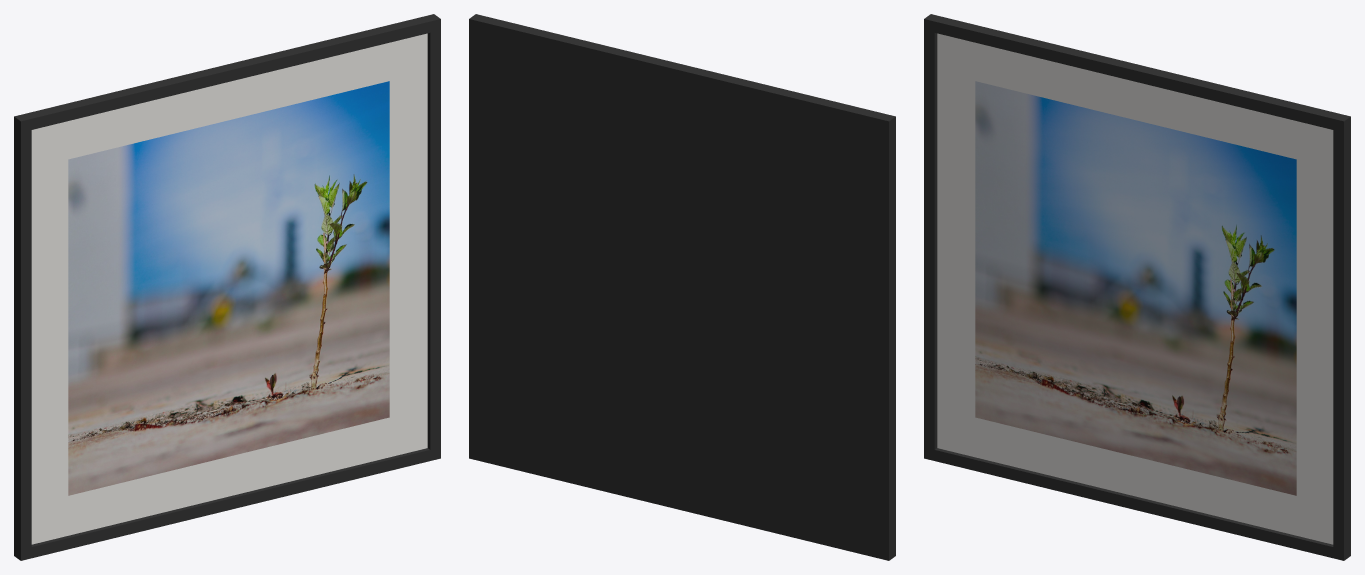
The model's file is grodden-60.gltf.
3 views of the same model, side by side, from view 1: azimuth 30°, elevation 25°; view 2: azimuth 150°, elevation 25°; view 3: azimuth 330°, elevation 25° (orthographic).
Parts seen in each view (by area): view 1: tavla; view 2: tavla; view 3: tavla.
Boxes of the visible parts, x1,y1,x2,y2 form: tavla: (14, 14, 440, 560); tavla: (469, 14, 895, 560); tavla: (924, 14, 1350, 560).
Size of the model in its own units: 0.784 by 0.784 by 0.022.
3 materials, 1 textured.
